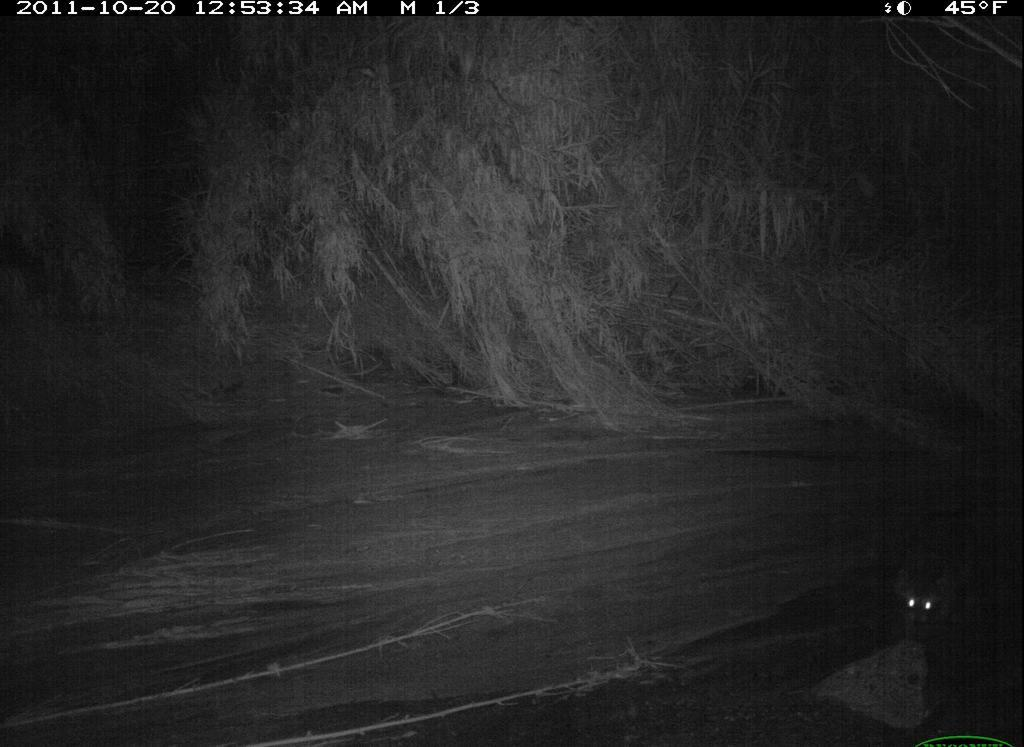raccoon: (885, 505, 990, 635)
